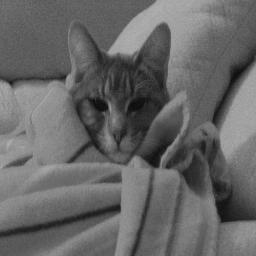catnose: (108, 124, 127, 146)
